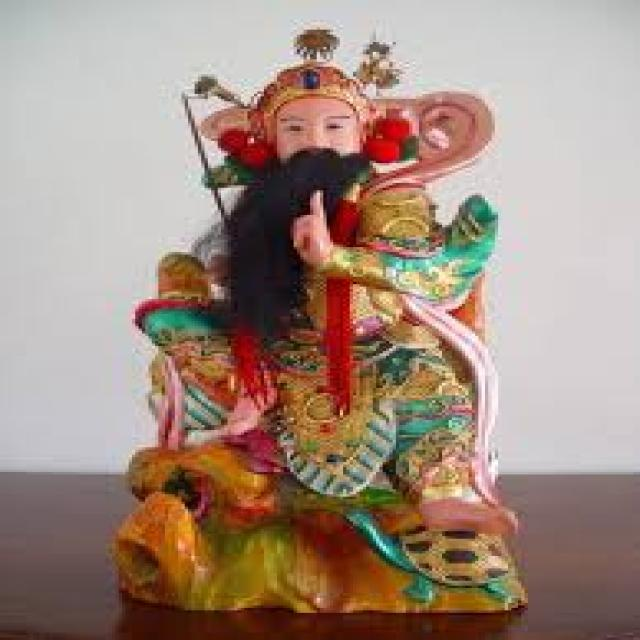Xuan wu: (127, 30, 515, 588)
